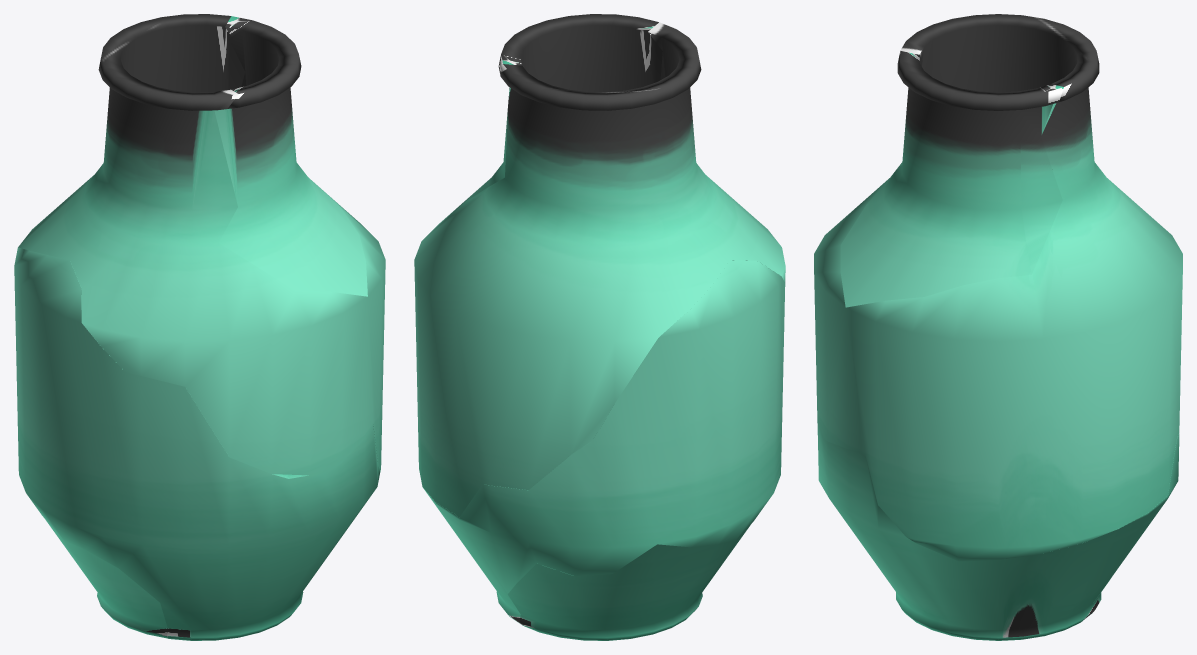
The model's file is ShatteredPot2.fbx.
3 views of the same model, side by side, from view 1: azimuth 30°, elevation 25°; view 2: azimuth 150°, elevation 25°; view 3: azimuth 270°, elevation 25° (orthographic).
Parts seen in each view (by area): view 1: polySurface28, polySurface27, polySurface29, polySurface26; view 2: polySurface28, polySurface27, polySurface26, polySurface29; view 3: polySurface28, polySurface29, polySurface27.
Part boxes in pixels (x1,y1,x2,y2): polySurface28: (18, 14, 385, 475); polySurface27: (14, 247, 379, 640); polySurface29: (214, 16, 367, 296); polySurface26: (45, 519, 167, 638); polySurface28: (414, 22, 785, 516); polySurface27: (423, 260, 785, 624); polySurface26: (508, 524, 750, 640); polySurface29: (467, 14, 662, 200); polySurface28: (814, 14, 1182, 561); polySurface29: (840, 51, 1063, 307); polySurface27: (817, 424, 1179, 640).
Size of the model in its own units: 0.4709 by 0.7619 by 0.4674.
